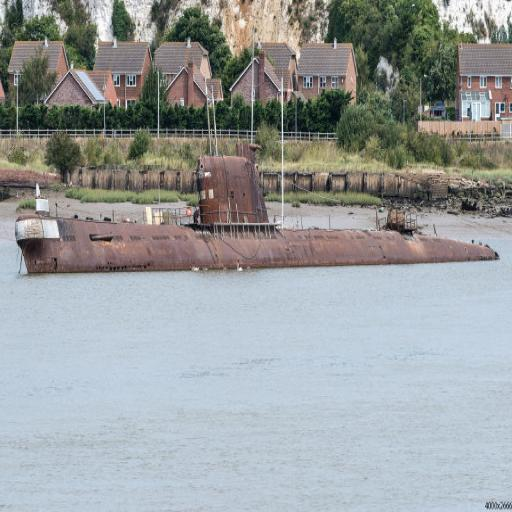submarine: (22, 142, 500, 278)
